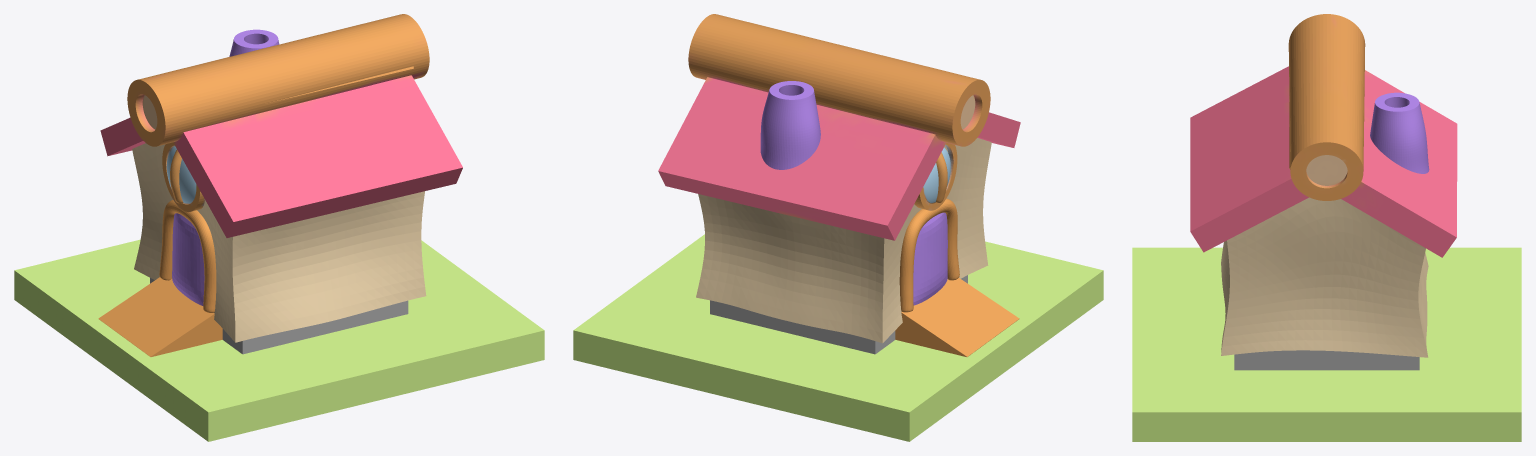
File: house.glb
3 renders of one model, left to right at view 1: azimuth 30°, elevation 25°; view 2: azimuth 150°, elevation 25°; view 3: azimuth 270°, elevation 25°, orthographic.
Visible parts, largest first — view 1: Roof, Gras, House body, Stair ramp, House under stone, Tube, Door, Window, Chimney; view 2: Roof, Gras, House body, Stair ramp, Chimney, Door, Tube, House under stone, Window; view 3: Gras, Roof, House body, Chimney, House under stone.
Part boxes in pixels (<box>): Roof: <box>100,14,462,237</box>; Gras: <box>14,239,544,441</box>; House body: <box>132,143,426,342</box>; Stair ramp: <box>98,277,222,356</box>; House under stone: <box>150,278,408,354</box>; Tube: <box>159,200,216,312</box>; Door: <box>172,213,204,305</box>; Window: <box>162,142,204,211</box>; Chimney: <box>229,29,279,56</box>; Roof: <box>658,14,1020,240</box>; Gras: <box>573,234,1103,441</box>; House body: <box>696,138,991,343</box>; Stair ramp: <box>895,278,1019,356</box>; Chimney: <box>760,81,820,169</box>; Door: <box>913,212,947,305</box>; Tube: <box>899,198,959,312</box>; House under stone: <box>710,275,967,354</box>; Window: <box>914,142,957,210</box>; Gras: <box>1132,247,1521,441</box>; Roof: <box>1190,14,1457,257</box>; House body: <box>1221,197,1428,357</box>; Chimney: <box>1370,92,1429,173</box>; House under stone: <box>1234,350,1419,370</box>.
Bounding box in the file's own units: 1.22 × 0.9756 × 1.22.
